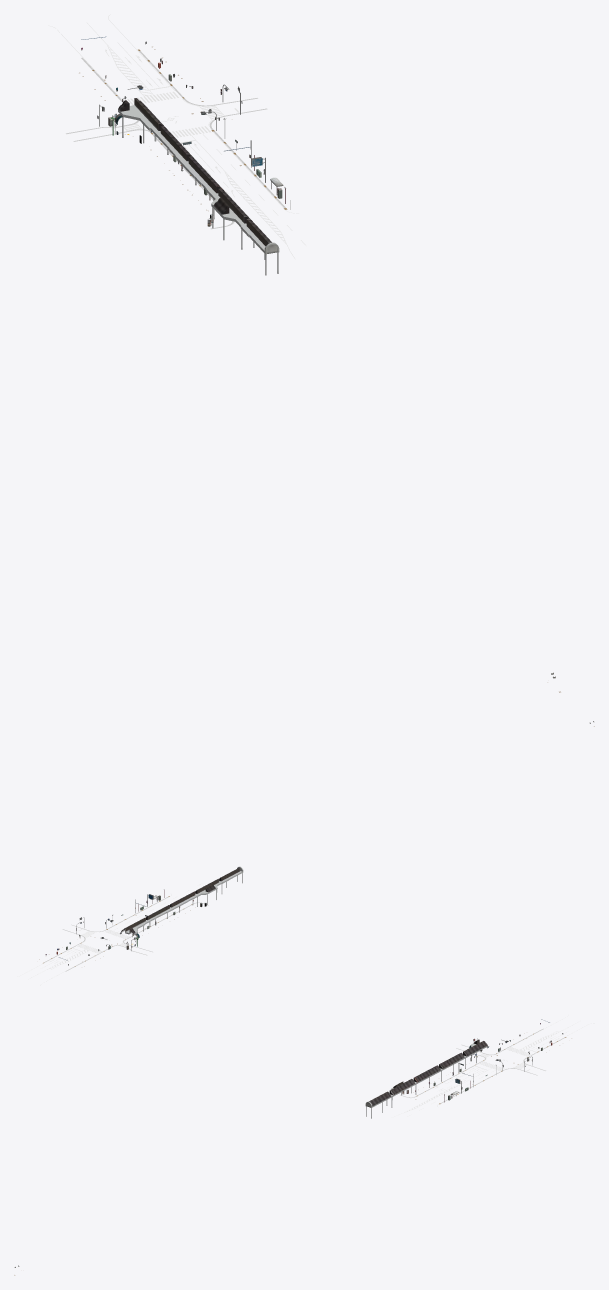
Rendered from frn--18.glb.
3 views of the same model, one above another, from view 1: azimuth 30°, elevation 25°; view 2: azimuth 150°, elevation 25°; view 3: azimuth 330°, elevation 25° (orthographic). The views are drawn at different scales.
Bounding box in the file's own units: 115 × 9.52 × 421.
Materials: 3 (2 with a texture image).
